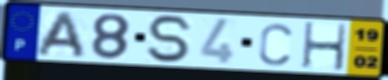4: (198, 16, 239, 67)
8: (91, 12, 132, 61)
A: (32, 10, 88, 60)
C: (257, 21, 295, 67)
H: (300, 20, 348, 72)
S: (145, 13, 196, 65)
